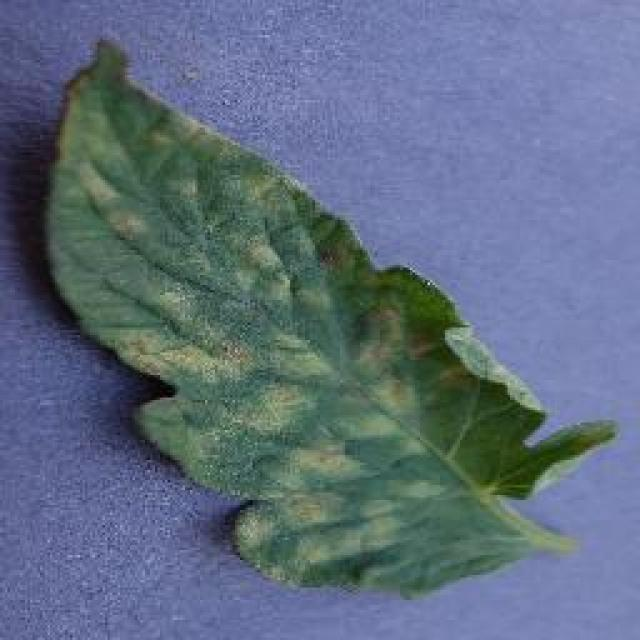Tomato mold leaf: (42, 35, 612, 600)
